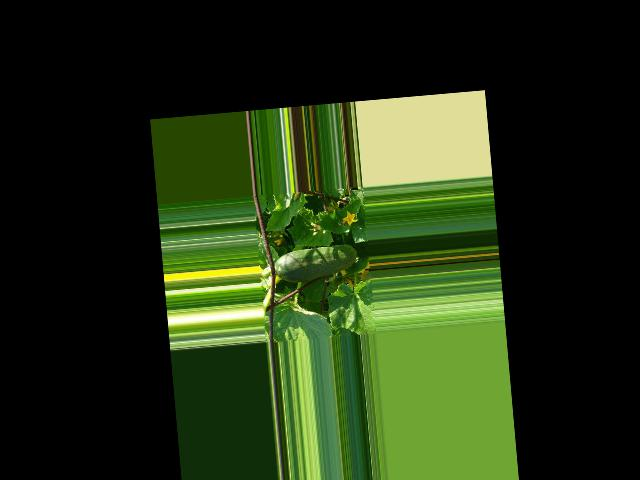cucumber: (273, 243, 359, 285)
